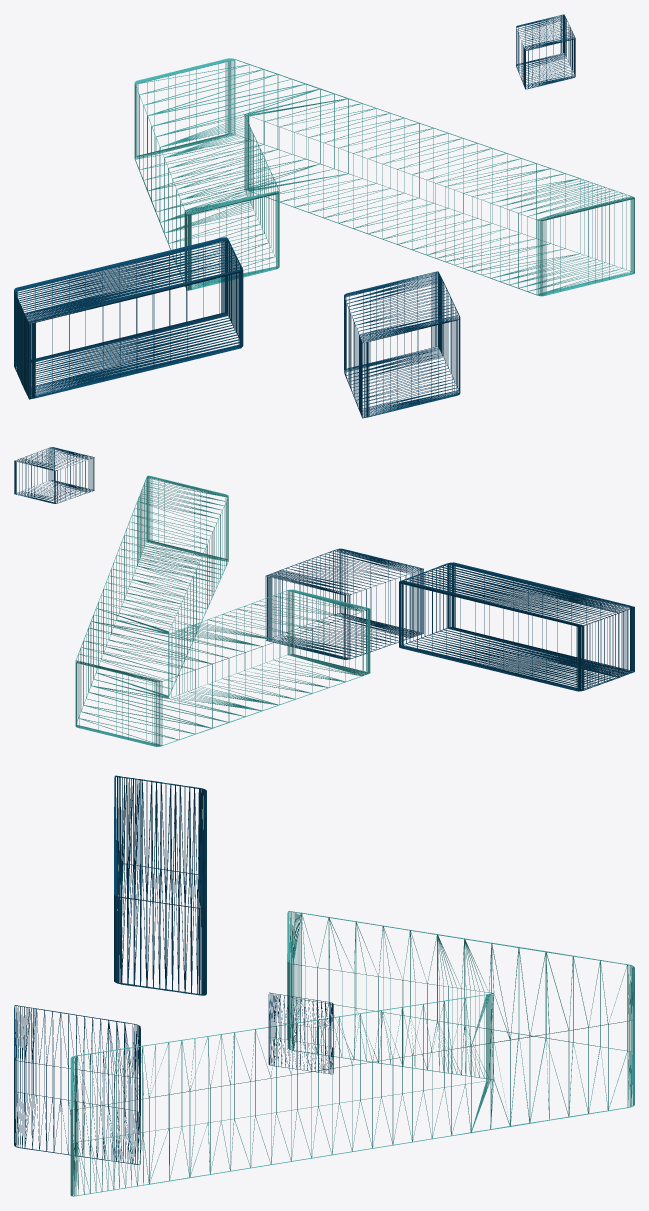
Rendered from Arsenal3.glb.
The picture shows the model from 3 angles, top to bottom: view 1: azimuth 30°, elevation 25°; view 2: azimuth 150°, elevation 25°; view 3: azimuth 270°, elevation 25°; orthographic projection. The views are drawn at different scales.
Parts seen in each view (by area): view 1: Curve, Curve.001, Curve.002, Curve.006; view 2: Curve, Curve.001, Curve.002, Curve.006; view 3: Curve, Curve.001, Curve.002, Curve.006.
Boxes of the visible parts, x1,y1,x2,y2 form: Curve: [134, 58, 634, 296]; Curve.001: [14, 237, 243, 399]; Curve.002: [344, 271, 460, 418]; Curve.006: [516, 14, 575, 89]; Curve: [75, 475, 370, 746]; Curve.001: [399, 562, 634, 691]; Curve.002: [265, 548, 423, 659]; Curve.006: [14, 447, 94, 503]; Curve: [70, 911, 634, 1196]; Curve.001: [114, 775, 206, 995]; Curve.002: [14, 1005, 140, 1164]; Curve.006: [268, 992, 333, 1074].
Bounding box in the file's own units: 5.79 × 1.93 × 4.3.
